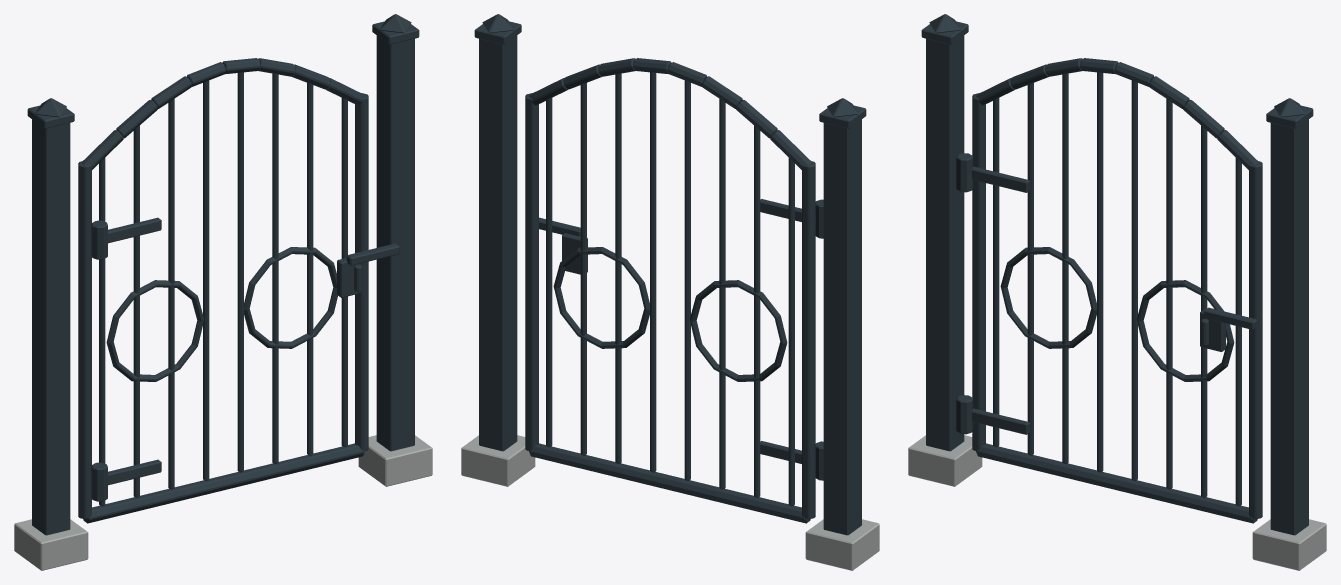
The model's file is b19_arched_wrought_iron_gate.glb.
3 renders of one model, left to right at view 1: azimuth 30°, elevation 25°; view 2: azimuth 150°, elevation 25°; view 3: azimuth 330°, elevation 25°, orthographic.
Parts seen in each view (by area): view 1: b19_arched_wrought_iron_gate; view 2: b19_arched_wrought_iron_gate; view 3: b19_arched_wrought_iron_gate.
Part boxes in pixels (bbox=[...]): b19_arched_wrought_iron_gate: bbox=[14, 14, 432, 570]; b19_arched_wrought_iron_gate: bbox=[461, 14, 879, 570]; b19_arched_wrought_iron_gate: bbox=[908, 14, 1326, 570].
Size of the model in its own units: 1.73 by 1.93 by 0.2997.
